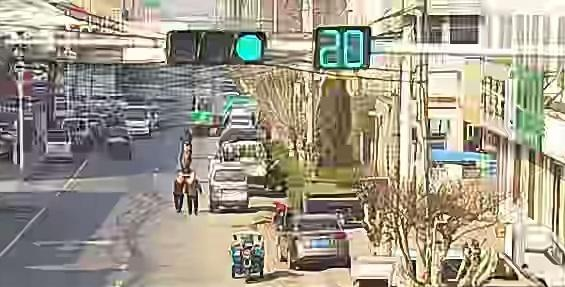green: (233, 33, 266, 63)
greentime: (318, 27, 365, 68)
